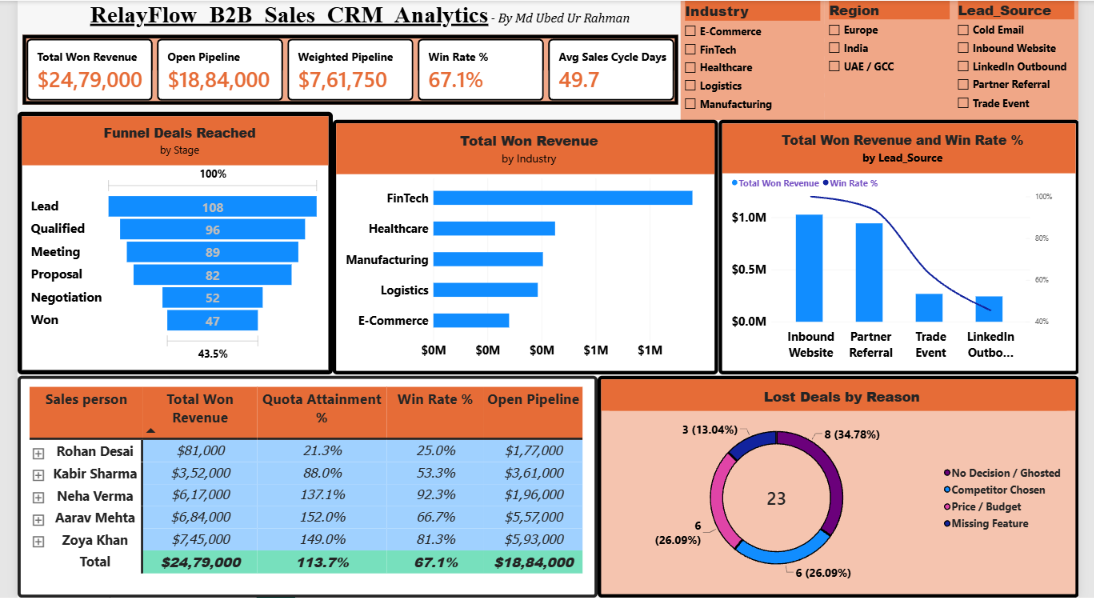

This screenshot's page, from the dashboard's own definition file:
{"tool":"powerbi","page":{"name":"Executive Overview","canvas":[1920,1080],"ordinal":0},"visuals":[{"type":"textbox","box":[9.4,0,1220.8,61],"z":0},{"type":"slicer","fields":{"Values":["Fact_Deals.Industry"]},"box":[1199.7,0,260.6,216],"z":1},{"type":"slicer","fields":{"Values":["Dim_Salespeople.Region"]},"box":[1460.3,0,234.8,216],"z":2},{"type":"slicer","fields":{"Values":["Fact_Deals.Lead_Source"]},"box":[1694,0,226.4,216.1],"z":3},{"type":"cardVisual","fields":{"Data":["_measures.Total Won Revenue","_measures.Open Pipeline","_measures.Weighted Pipeline","_measures.Win Rate %","_measures.Avg Sales Cycle Days"]},"box":[9.4,61,1190.3,126.8],"z":4},{"type":"funnel","fields":{"Category":["Dim_FunnelStages.Stage"],"Y":["_measures.Funnel Deals Reached"]},"box":[0,201.7,570.2,475.5],"z":5},{"type":"clusteredBarChart","fields":{"Category":["Fact_Deals.Industry"],"Y":["_measures.Total Won Revenue"]},"box":[570.2,216.1,697.8,461.1],"z":6},{"type":"lineClusteredColumnComboChart","fields":{"Category":["Fact_Deals.Lead_Source"],"Y":["_measures.Total Won Revenue"],"Y2":["_measures.Win Rate %"]},"box":[1267.9,216.1,652.5,461.1],"z":7},{"type":"pivotTable","fields":{"Rows":["Dim_Salespeople.Salesperson_Name","Dim_Salespeople.Region"],"Values":["_measures.Total Won Revenue","_measures.Quota Attainment %","_measures.Win Rate %","_measures.Open Pipeline"]},"box":[0,678.5,1049.5,401.5],"z":8},{"type":"donutChart","title":"Lost Deals by Reason","fields":{"Category":["Fact_Deals.Loss_Reason"],"Y":["CountNonNull(Fact_Deals.Deal_ID)"]},"box":[1049.5,678.5,871,401.5],"z":9}]}

Visuals, with their boxes in screenshot pixels (x1, y1, x2, y2), scaled from the page's 1920x1080 canvas onto the 1094x598 screenshot:
textbox: (x1=5, y1=0, x2=701, y2=34)
slicer - Fact_Deals.Industry: (x1=684, y1=0, x2=832, y2=120)
slicer - Dim_Salespeople.Region: (x1=832, y1=0, x2=966, y2=120)
slicer - Fact_Deals.Lead_Source: (x1=965, y1=0, x2=1093, y2=120)
cardVisual - _measures.Total Won Revenue x _measures.Open Pipeline: (x1=5, y1=34, x2=684, y2=104)
funnel - Dim_FunnelStages.Stage x _measures.Funnel Deals Reached: (x1=0, y1=112, x2=325, y2=375)
clusteredBarChart - Fact_Deals.Industry x _measures.Total Won Revenue: (x1=325, y1=120, x2=722, y2=375)
lineClusteredColumnComboChart - Fact_Deals.Lead_Source x _measures.Total Won Revenue: (x1=722, y1=120, x2=1093, y2=375)
pivotTable - Dim_Salespeople.Salesperson_Name x Dim_Salespeople.Region: (x1=0, y1=376, x2=598, y2=597)
"Lost Deals by Reason" donutChart: (x1=598, y1=376, x2=1093, y2=597)
